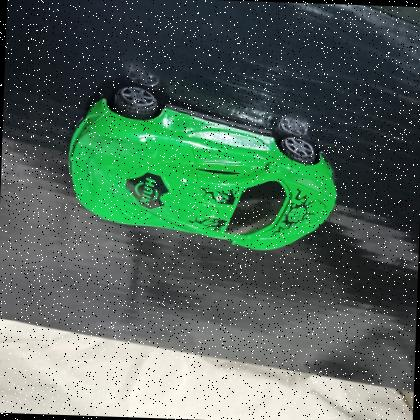Car: (60, 78, 347, 259)
